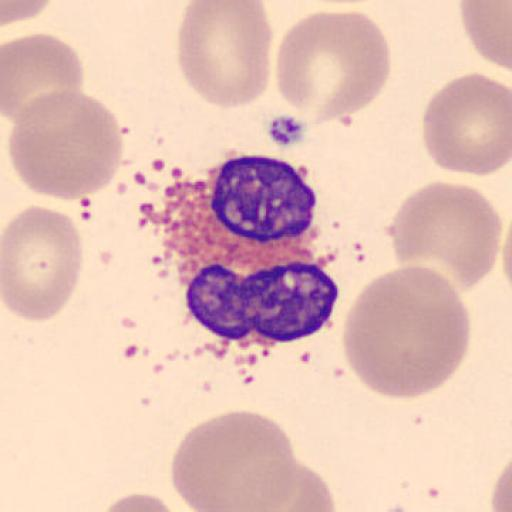RBC: (343, 264, 472, 398), (274, 9, 392, 125), (6, 88, 124, 202), (386, 180, 504, 294), (168, 409, 298, 512), (176, 0, 274, 110), (2, 203, 85, 323), (422, 72, 511, 178), (2, 31, 85, 127), (253, 460, 337, 512), (458, 0, 512, 72), (96, 491, 180, 512), (0, 0, 54, 25), (490, 458, 512, 511), (500, 214, 512, 291)
WBC: (164, 154, 338, 355)
